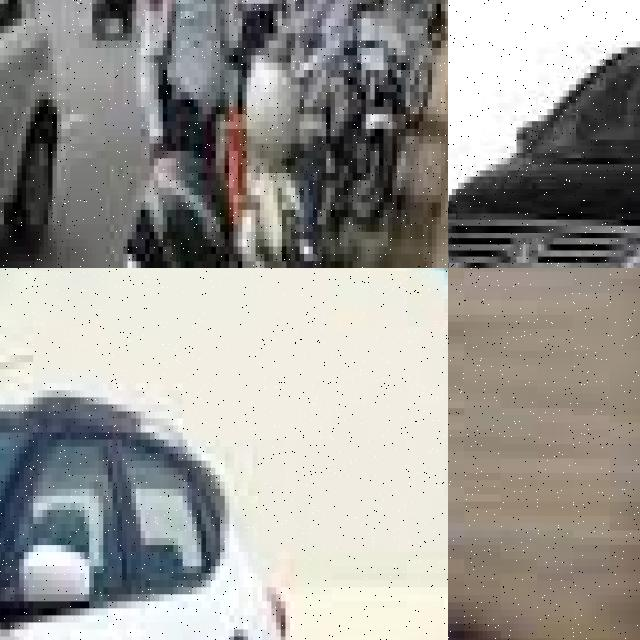bike: (224, 121, 343, 268)
car: (0, 306, 332, 640), (448, 35, 640, 268)
